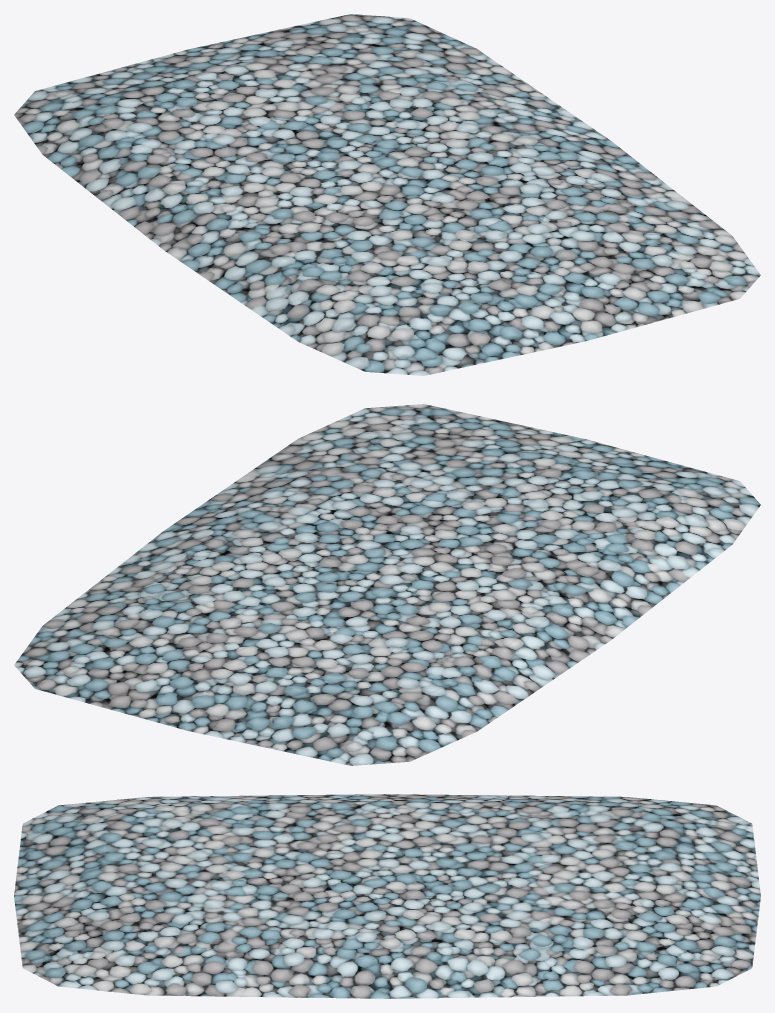
Rendered from Litter_Box_01_Litter.fbx.
The picture shows the model from 3 angles, top to bottom: view 1: azimuth 30°, elevation 25°; view 2: azimuth 150°, elevation 25°; view 3: azimuth 270°, elevation 25°; orthographic projection. The views are drawn at different scales.
Visible parts, largest first — view 1: Litter_Box_01_Litter; view 2: Litter_Box_01_Litter; view 3: Litter_Box_01_Litter.
Part boxes in pixels (<box>): Litter_Box_01_Litter: <box>14,14,760,375</box>; Litter_Box_01_Litter: <box>14,404,760,765</box>; Litter_Box_01_Litter: <box>14,794,760,998</box>.
Bounding box in the file's own units: 29.14 × 44.93 × 1.5.
